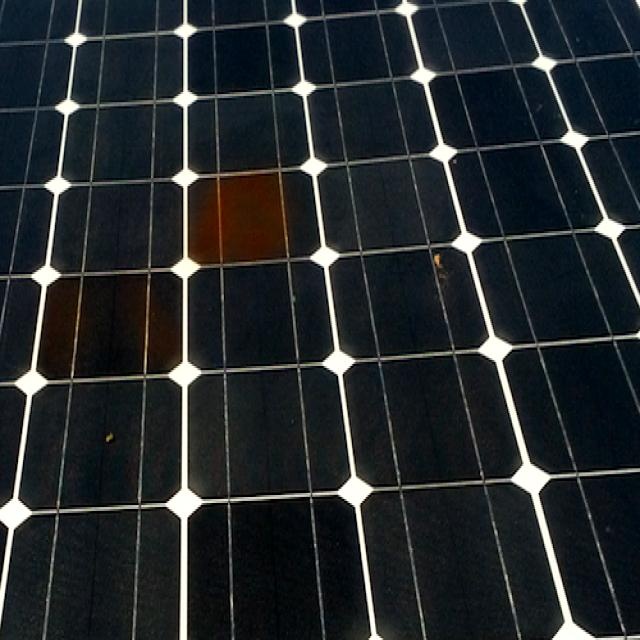shadow: (178, 166, 314, 272), (29, 254, 105, 396), (126, 250, 176, 392), (414, 216, 474, 310)
